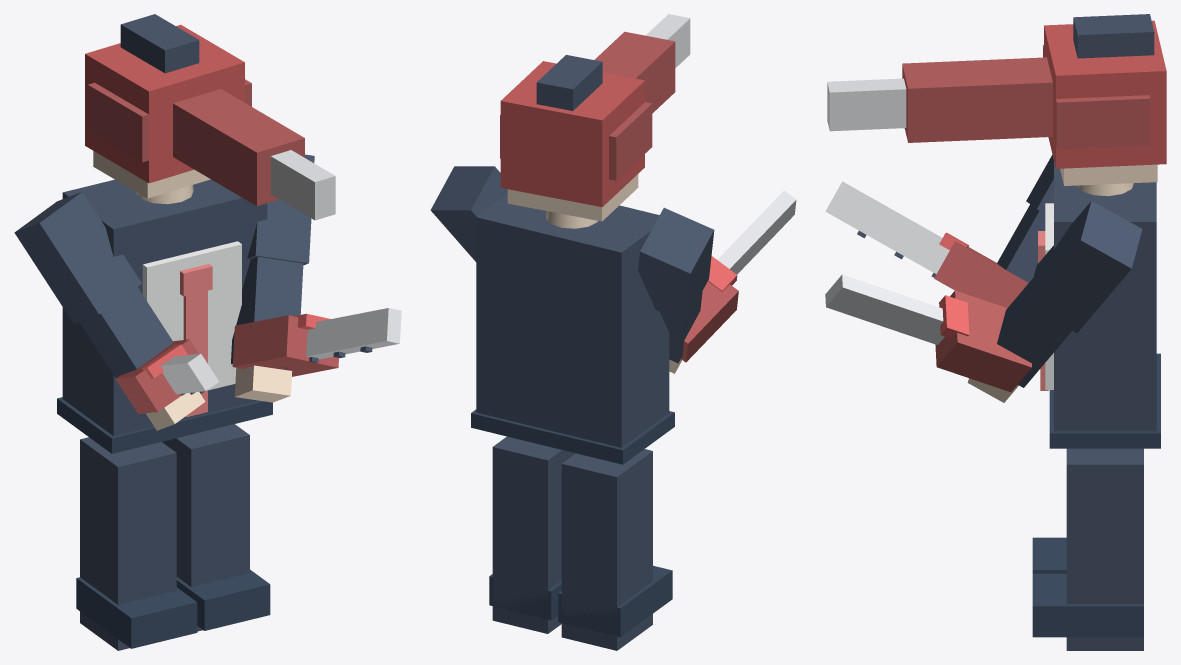
Rendered from chainsaw.gltf.
3 renders of one model, left to right at view 1: azimuth 30°, elevation 25°; view 2: azimuth 150°, elevation 25°; view 3: azimuth 270°, elevation 25°, orthographic. The views are drawn at different scales.
Parts seen in each view (by area): view 1: legs, head, torso, arm_L, arm_R, arm_saw_R, arm_saw_L; view 2: torso, legs, head, arm_L, arm_saw_L, arm_R; view 3: head, torso, legs, arm_R, arm_saw_R, arm_saw_L, arm_L.
Part boxes in pixels (x1=…): legs: x1=76, y1=424, x2=270, y2=650; head: x1=85, y1=14, x2=335, y2=220; torso: x1=57, y1=179, x2=272, y2=453; arm_L: x1=14, y1=192, x2=205, y2=430; arm_R: x1=231, y1=154, x2=314, y2=402; arm_saw_R: x1=232, y1=308, x2=401, y2=376; arm_saw_L: x1=115, y1=339, x2=219, y2=413; torso: x1=471, y1=194, x2=674, y2=464; legs: x1=489, y1=436, x2=672, y2=650; head: x1=500, y1=14, x2=690, y2=228; arm_L: x1=638, y1=207, x2=714, y2=373; arm_saw_L: x1=681, y1=190, x2=796, y2=362; arm_R: x1=430, y1=166, x2=507, y2=261; head: x1=827, y1=14, x2=1166, y2=196; torso: x1=1038, y1=161, x2=1160, y2=448; legs: x1=1032, y1=448, x2=1143, y2=650; arm_R: x1=967, y1=201, x2=1142, y2=402; arm_saw_R: x1=825, y1=274, x2=1031, y2=392; arm_saw_L: x1=825, y1=181, x2=1028, y2=307; arm_L: x1=997, y1=154, x2=1053, y2=282.
Bounding box in the file's own units: 75.21 × 153 × 79.75.
